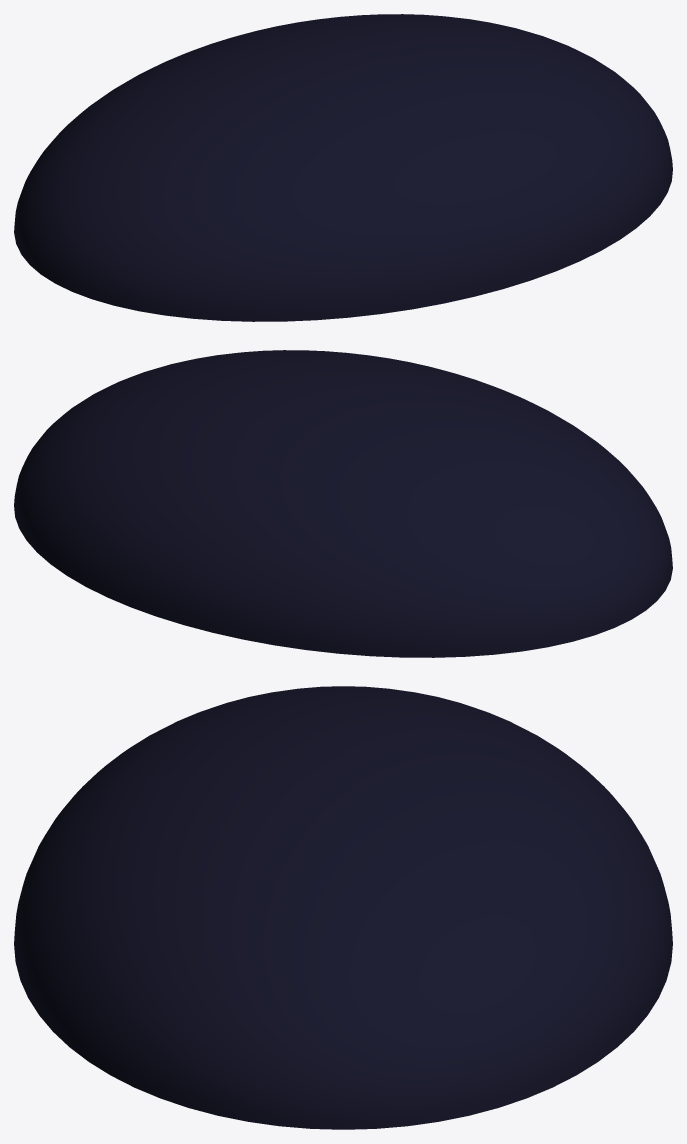
Rendered from blackopal.glb.
The picture shows the model from 3 angles, top to bottom: view 1: azimuth 30°, elevation 25°; view 2: azimuth 150°, elevation 25°; view 3: azimuth 270°, elevation 25°; orthographic projection. The views are drawn at different scales.
Parts seen in each view (by area): view 1: blackopal; view 2: blackopal; view 3: blackopal.
Part boxes in pixels (box(x1,y1,x2,y2)): blackopal: box(14, 14, 672, 321); blackopal: box(14, 350, 672, 657); blackopal: box(14, 686, 672, 1129).
Size of the model in its own units: 0.25 by 0.0562 by 0.1875.
